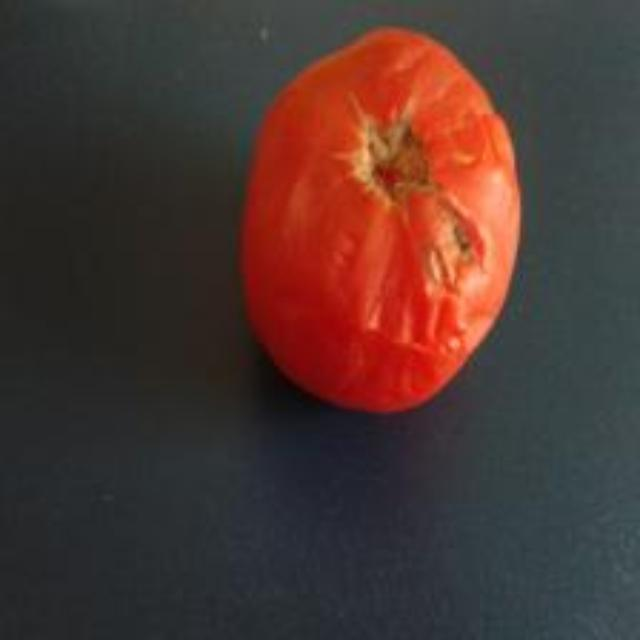defect: (236, 22, 525, 422)
